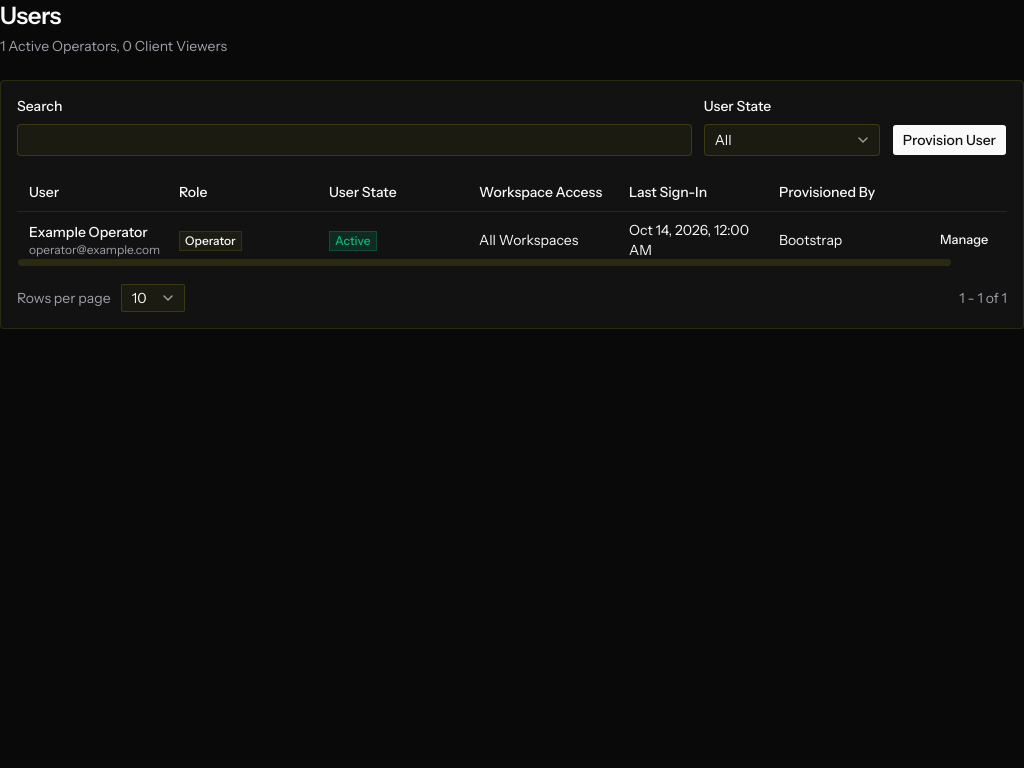
Test case: application shell › requires Workspace Access before provisioning a Client Viewer
Expected: the text "Example Operator" is shown, [29, 222, 155, 242]
Click the button "Provision User" at (949, 140), box [892, 124, 1007, 156]
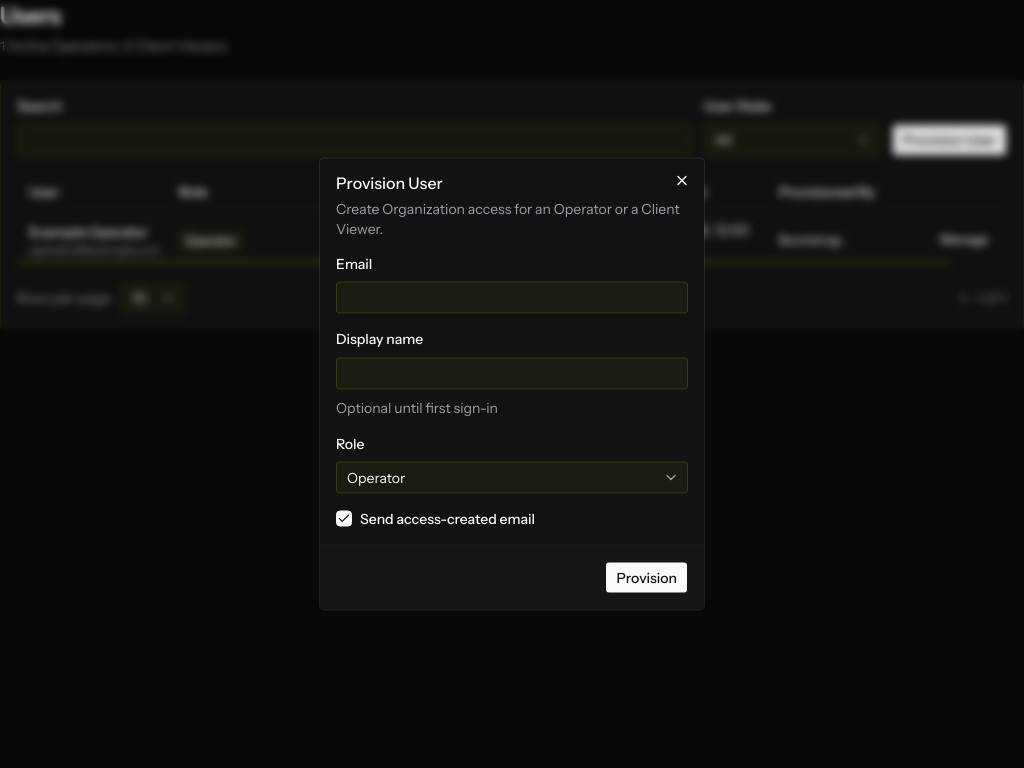
Click the dropdown named "Role" at (376, 477), box [336, 461, 688, 493]
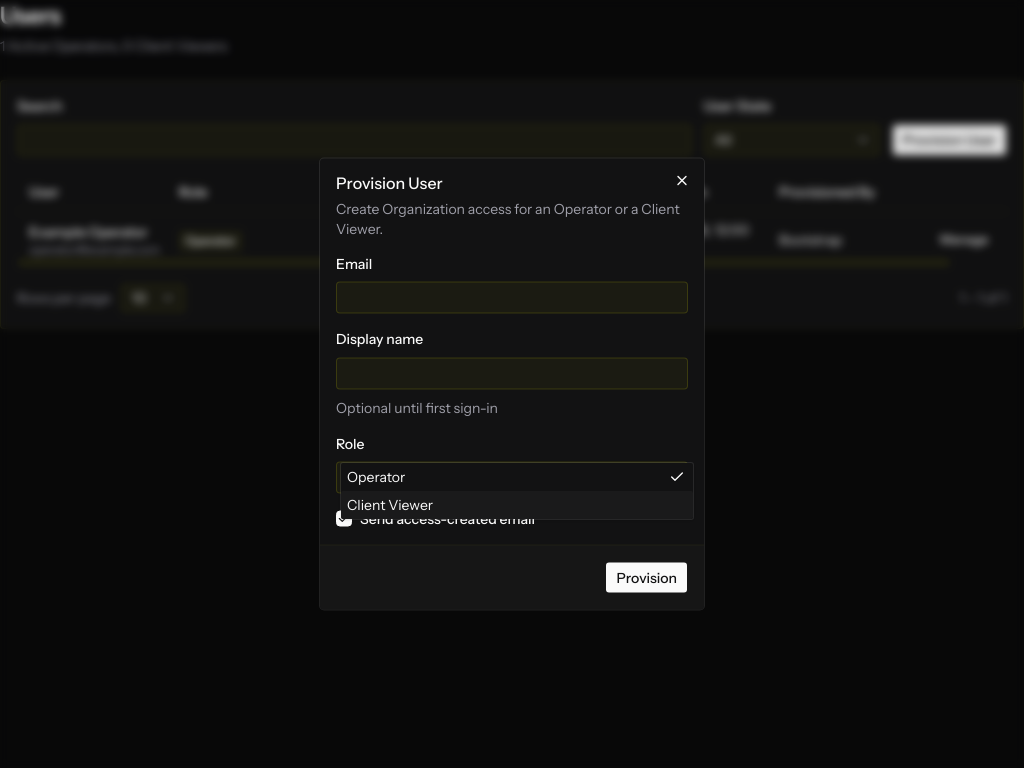
Press Enter in the option "Client Viewer", box [341, 491, 693, 519]
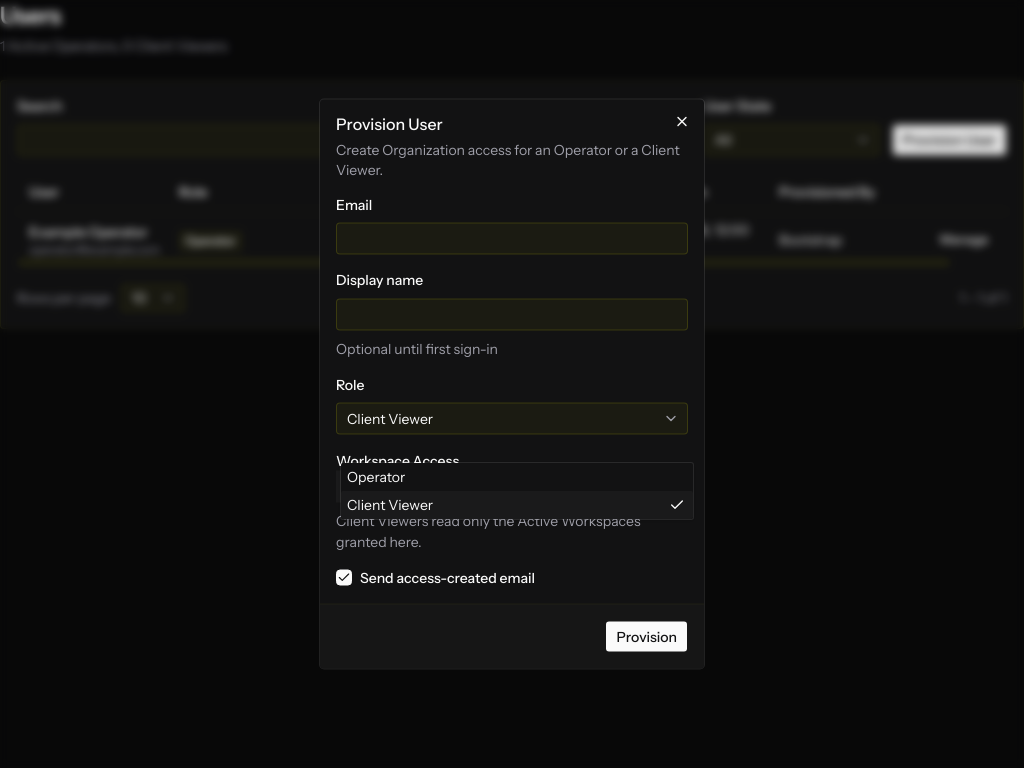
Type "client@example.com" into the field labelled "Email" at (512, 239), box [336, 223, 688, 255]
Click the button "Provision" at (647, 636), box [606, 620, 688, 652]
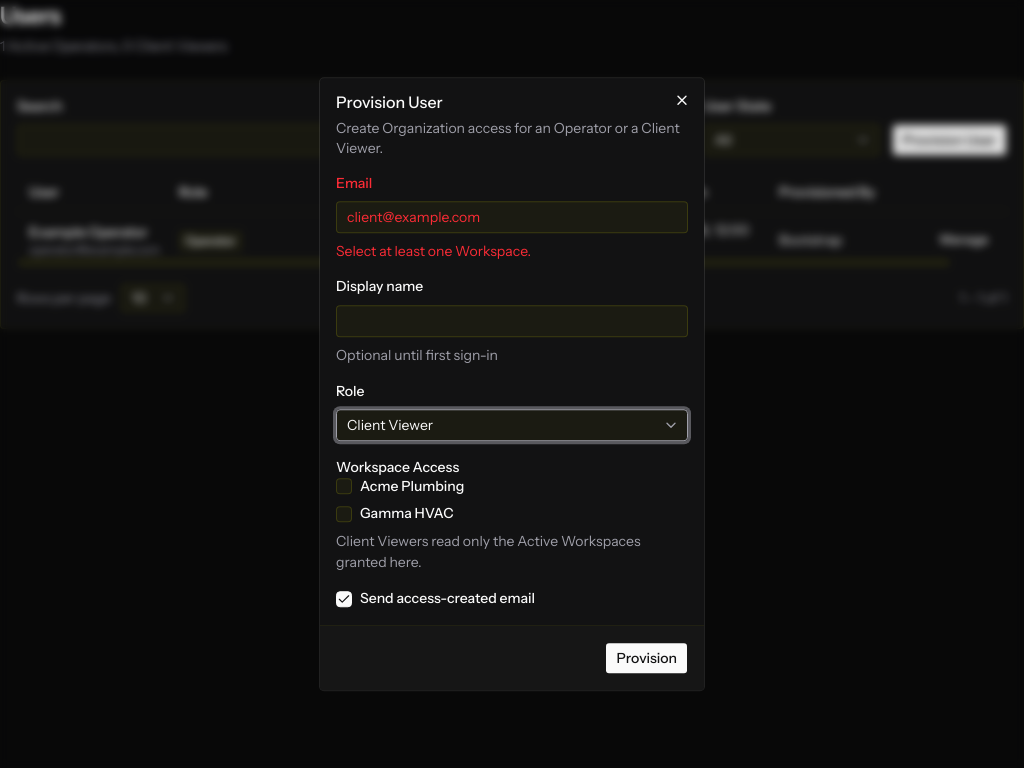
Result: the text "Select at least one Workspace." is shown at [336, 242, 531, 260]
Click the checkbox named "Acme Plumbing" next to "Acme Plumbing" at (344, 487), box [336, 479, 352, 495]
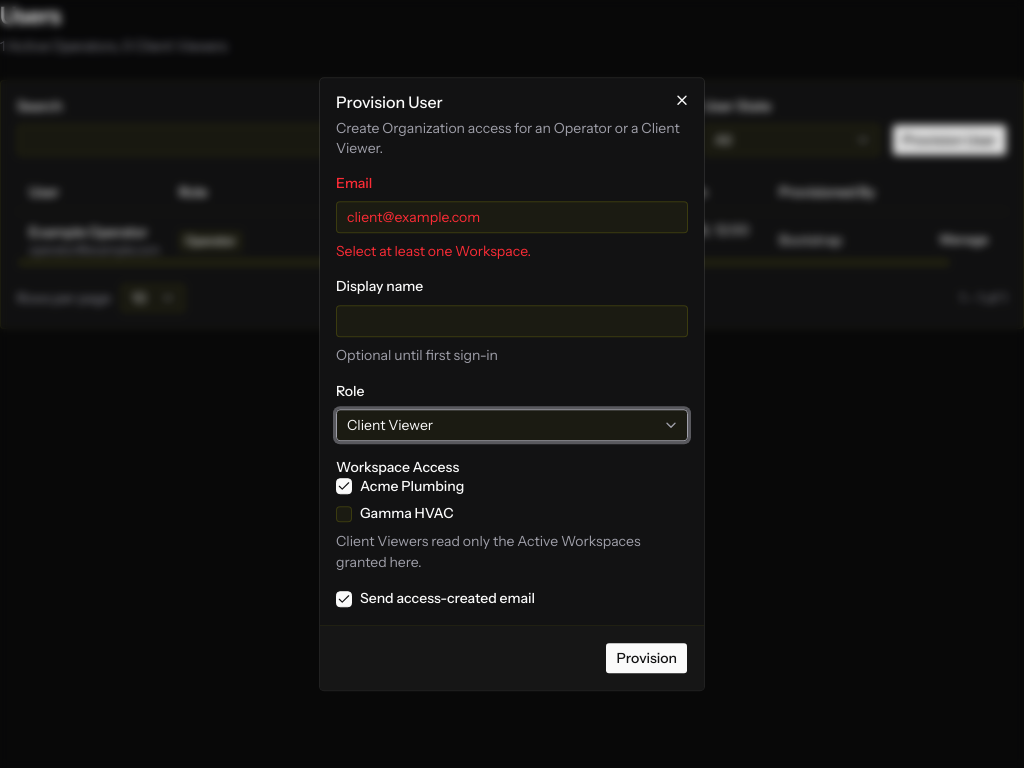
Click the button "Provision" at (647, 658), box [606, 642, 688, 674]
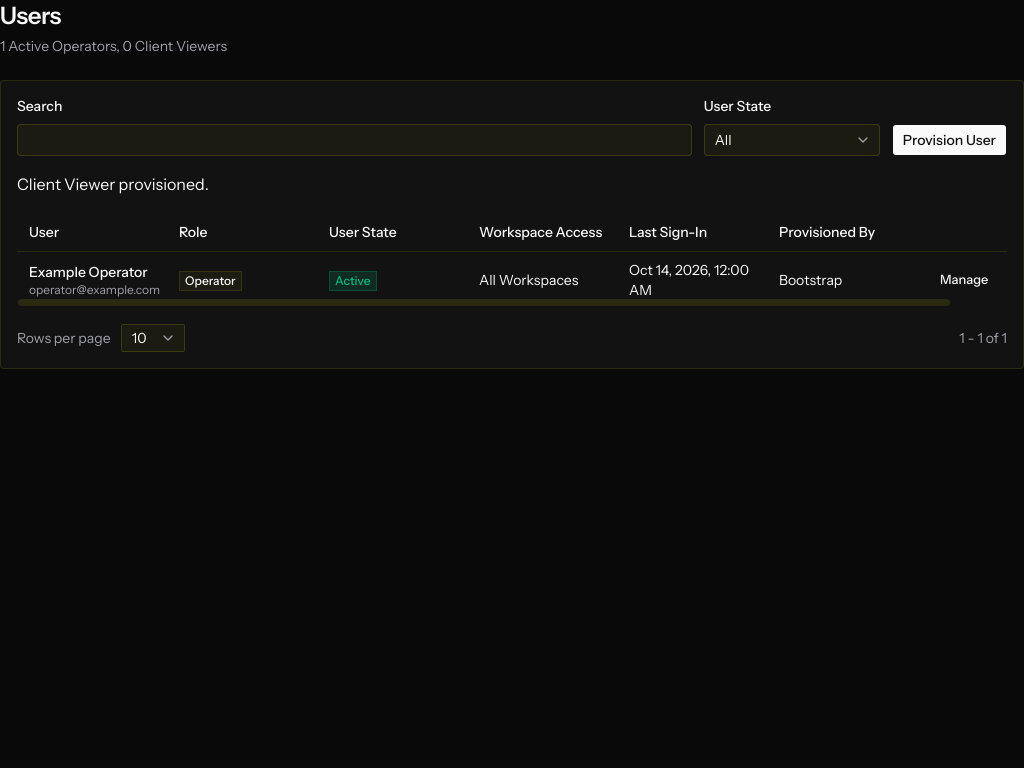
Result: the text "Client Viewer provisioned." is shown at [17, 174, 209, 194]
